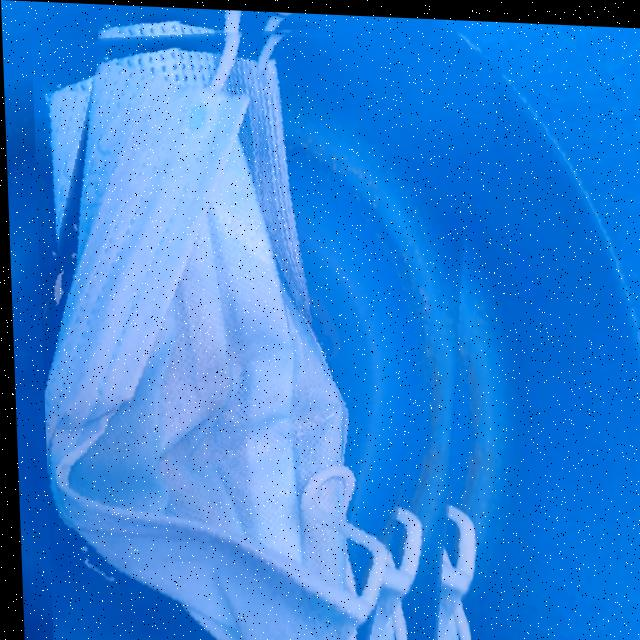litter: (29, 1, 497, 640)
